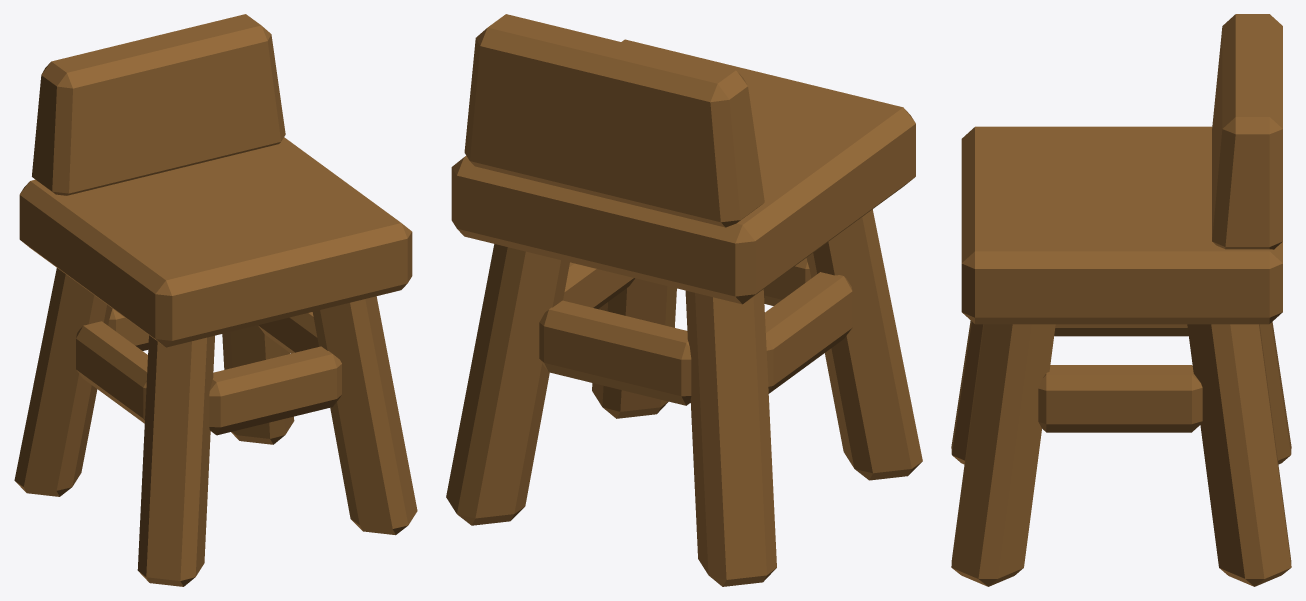
The model's file is chair_b.gltf.
The picture shows the model from 3 angles, left to right: view 1: azimuth 30°, elevation 25°; view 2: azimuth 150°, elevation 25°; view 3: azimuth 270°, elevation 25°; orthographic projection. The views are drawn at different scales.
Visible parts, largest first — view 1: chair_b001; view 2: chair_b001; view 3: chair_b001.
Part boxes in pixels (x1,y1,x2,y2): chair_b001: [14, 14, 417, 586]; chair_b001: [446, 14, 922, 586]; chair_b001: [951, 14, 1291, 586].
Bounding box in the file's own units: 0.4226 × 0.6239 × 0.4233.
1 material, 1 textured.
